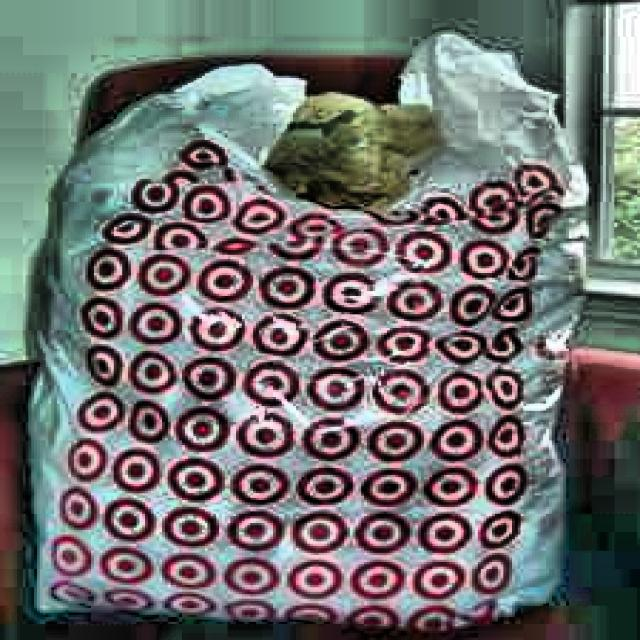Plastic: (19, 32, 606, 618)
